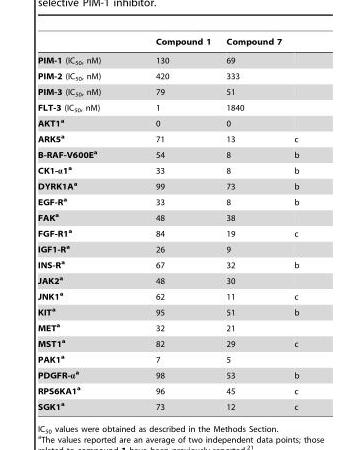table: (37, 37, 298, 411)
table column: (127, 37, 218, 411), (37, 37, 127, 411), (218, 37, 287, 411), (287, 37, 298, 411)
table column header: (37, 37, 298, 50)
table row: (37, 50, 298, 68), (37, 68, 298, 84), (37, 84, 298, 100), (37, 114, 298, 130), (37, 130, 298, 146), (37, 161, 298, 177), (37, 177, 298, 193), (37, 193, 298, 209), (37, 224, 298, 240), (37, 240, 298, 256), (37, 256, 298, 272), (37, 287, 298, 303), (37, 303, 298, 319), (37, 319, 298, 335), (37, 350, 298, 366), (37, 366, 298, 382), (37, 382, 298, 398), (37, 146, 298, 161), (37, 209, 298, 224), (37, 272, 298, 287), (37, 335, 298, 350), (37, 100, 298, 114), (37, 37, 298, 50), (37, 398, 298, 411)
